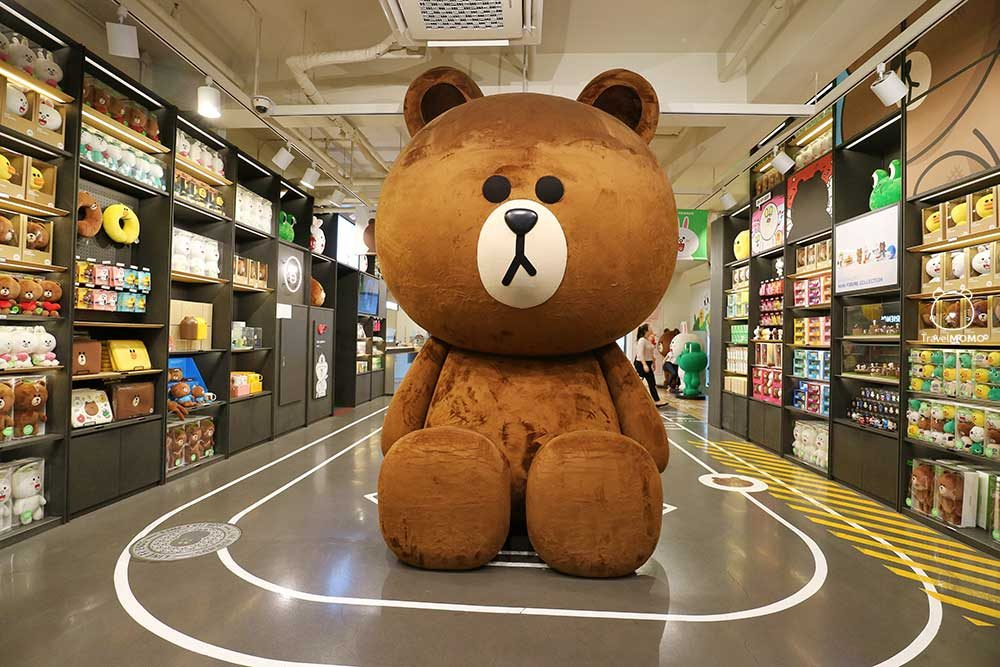line_brown: (368, 64, 691, 357), (14, 379, 52, 416)
